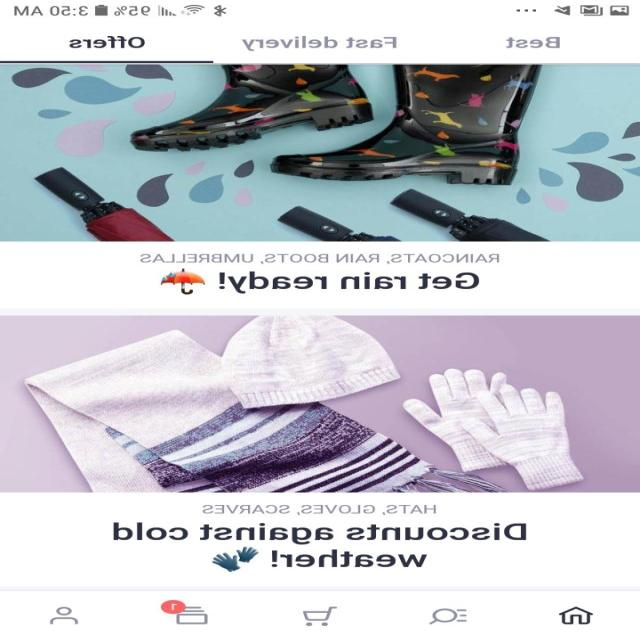Icon: (161, 599, 209, 625), (302, 606, 338, 626), (558, 606, 594, 625), (428, 608, 468, 625), (50, 605, 80, 624)
Image: (1, 65, 640, 242), (1, 315, 640, 492), (212, 546, 260, 572), (161, 268, 207, 295)
Text: (112, 521, 526, 567), (218, 270, 481, 294), (140, 253, 500, 264), (202, 505, 438, 515), (242, 36, 398, 51), (69, 36, 147, 49), (506, 36, 561, 49)
